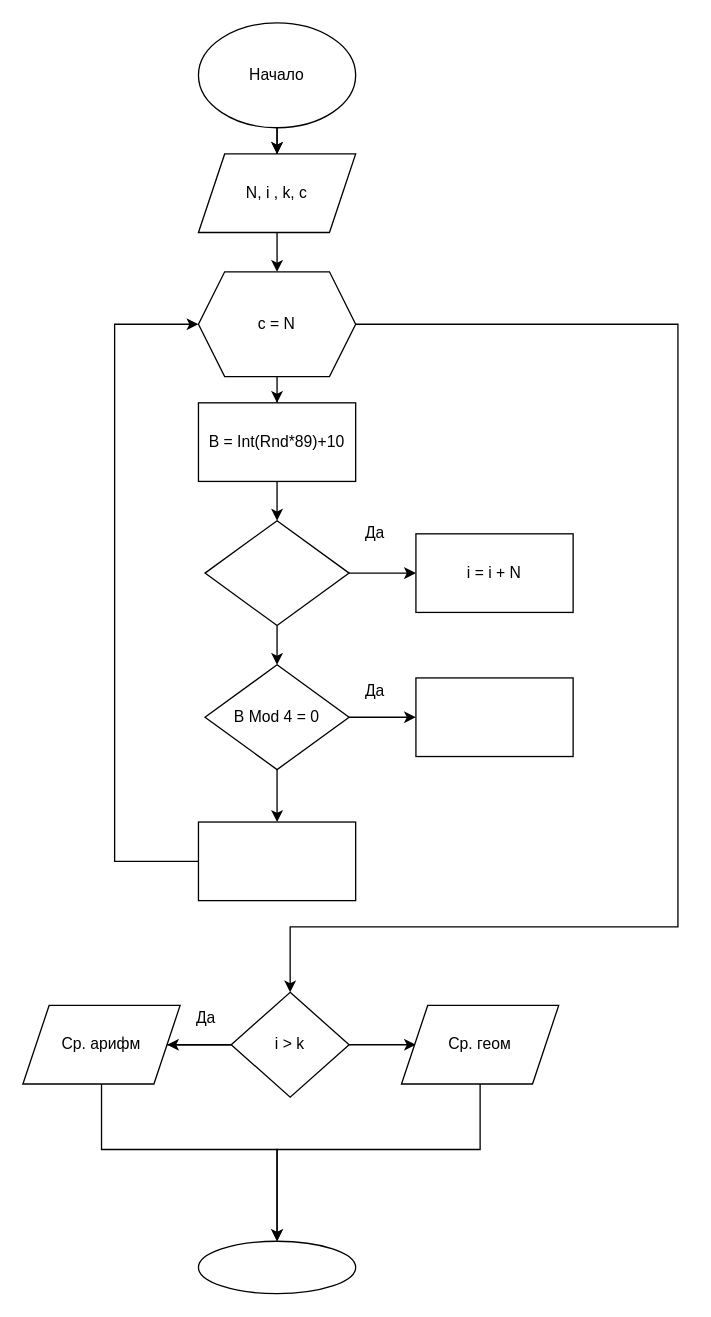
This 711x1317 diagram has some shape labels left out. Each missing label, with the centre of its shape:
"B Mod 3 = 0" goes at (276,572).
"c = c + 1" goes at (276,861).
"k = k + N" goes at (494,717).
"Конец" goes at (276,1267).
